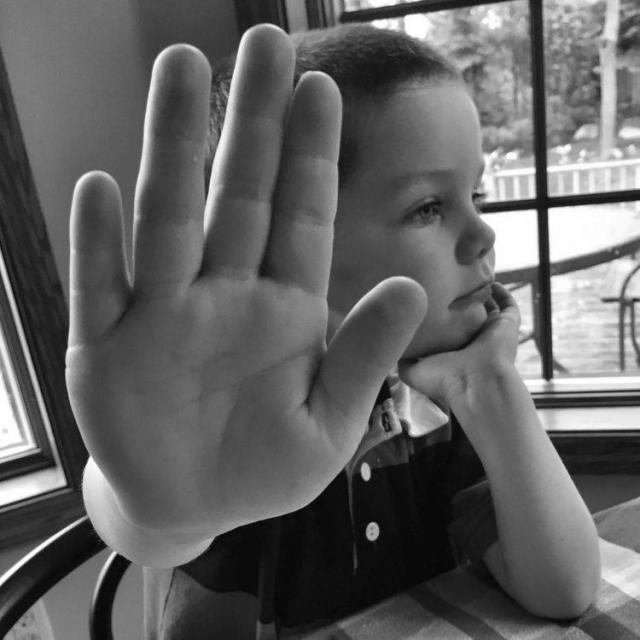stop: (56, 17, 434, 540)
